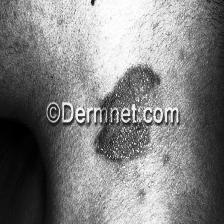Non-Cancerous Skin Condition: (96, 66, 152, 160)
